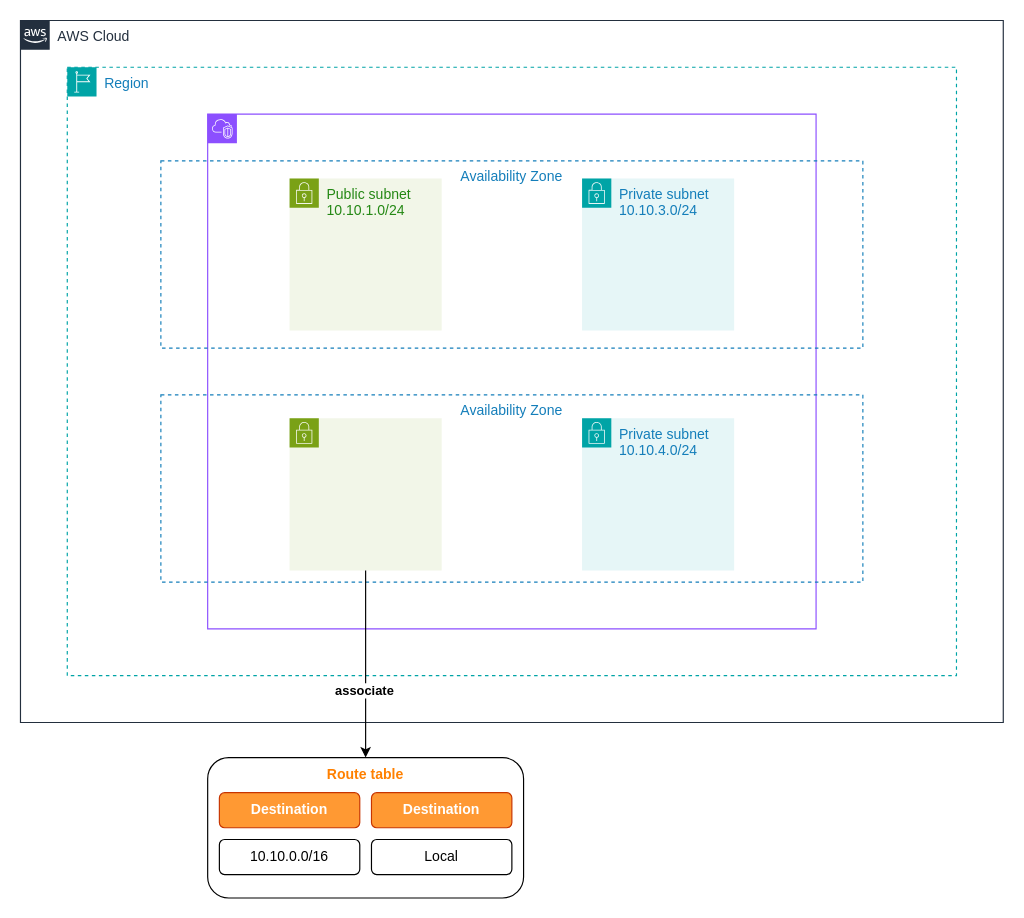
The diagram is 1024 pixels wide and 918 high, and some of its shapes have lost their labels. The box of each missing label's shape, as (x1, y1, x2, y2) in pixels:
Public subnet 10.10.2.0/24: (288, 417, 442, 570)
VPC : 10.10.0.0/16: (207, 113, 816, 629)
